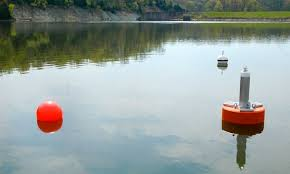buoy: (37, 101, 63, 122)
